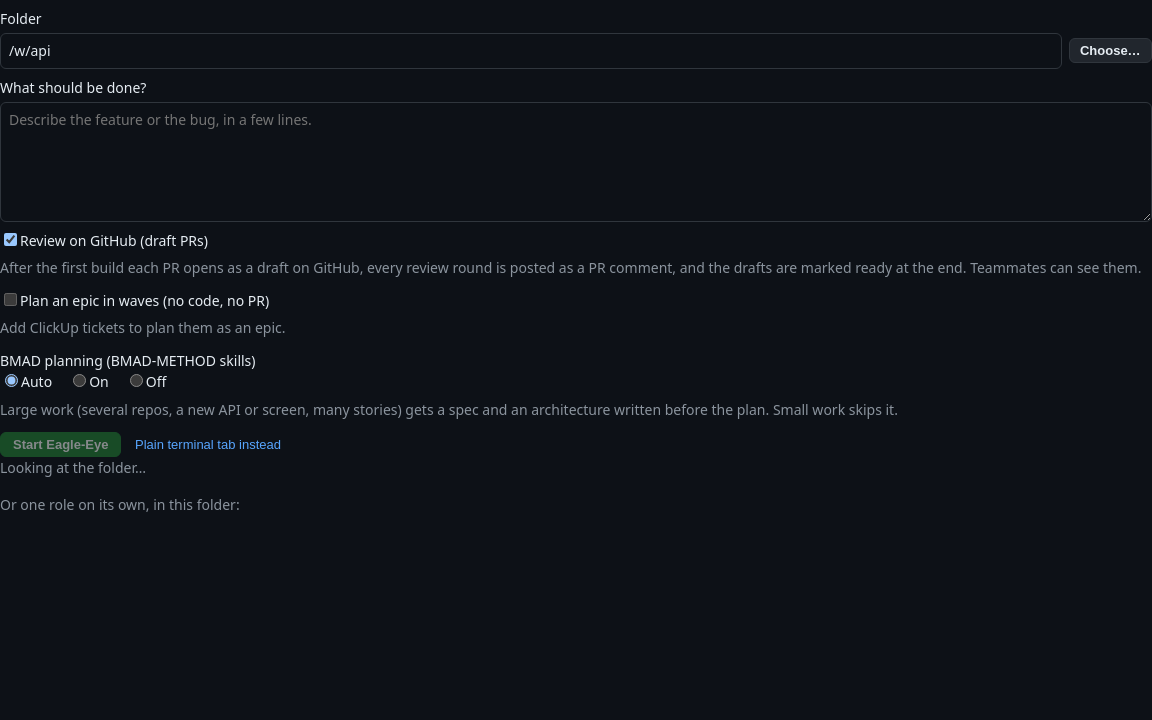
a manual start over the cap › asks first, listing the slot holders, and starts nothing until a choice
Type "Do it" into the text box with placeholder "Describe the feature or the bug, in a few lines." at (576, 162), box left=0, top=102, right=1151, bottom=222
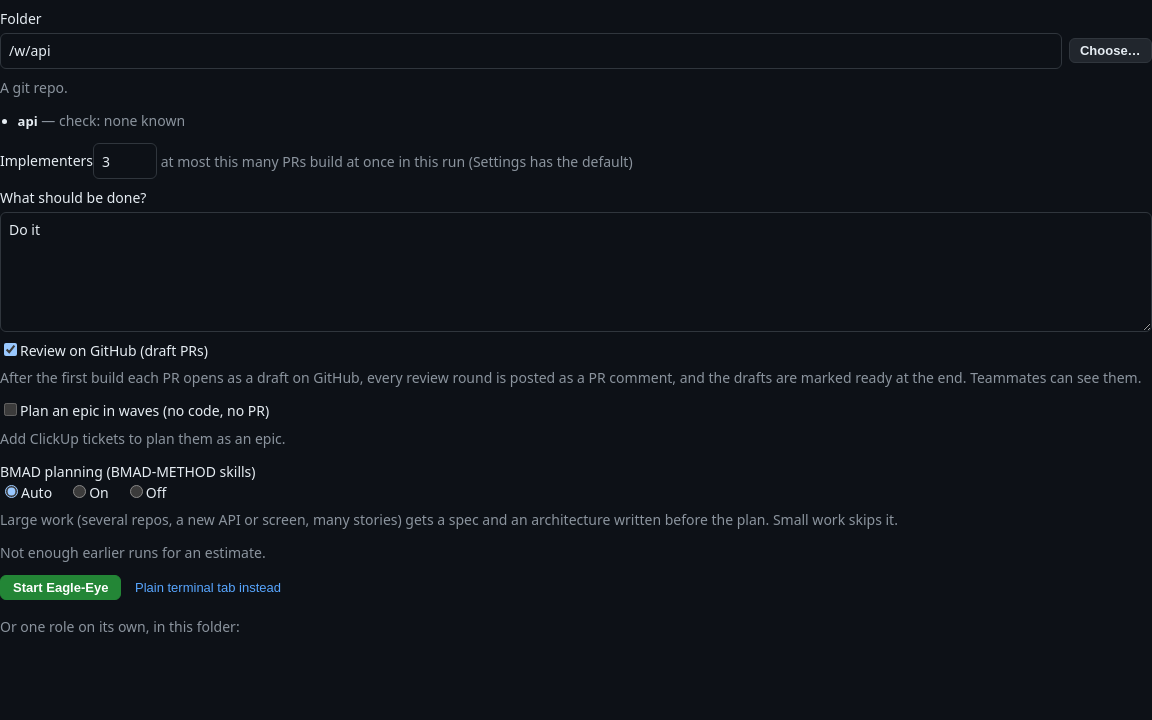
Now the button "Start Eagle-Eye" is enabled
Click the button "Start Eagle-Eye" at (61, 588), box left=0, top=575, right=121, bottom=600
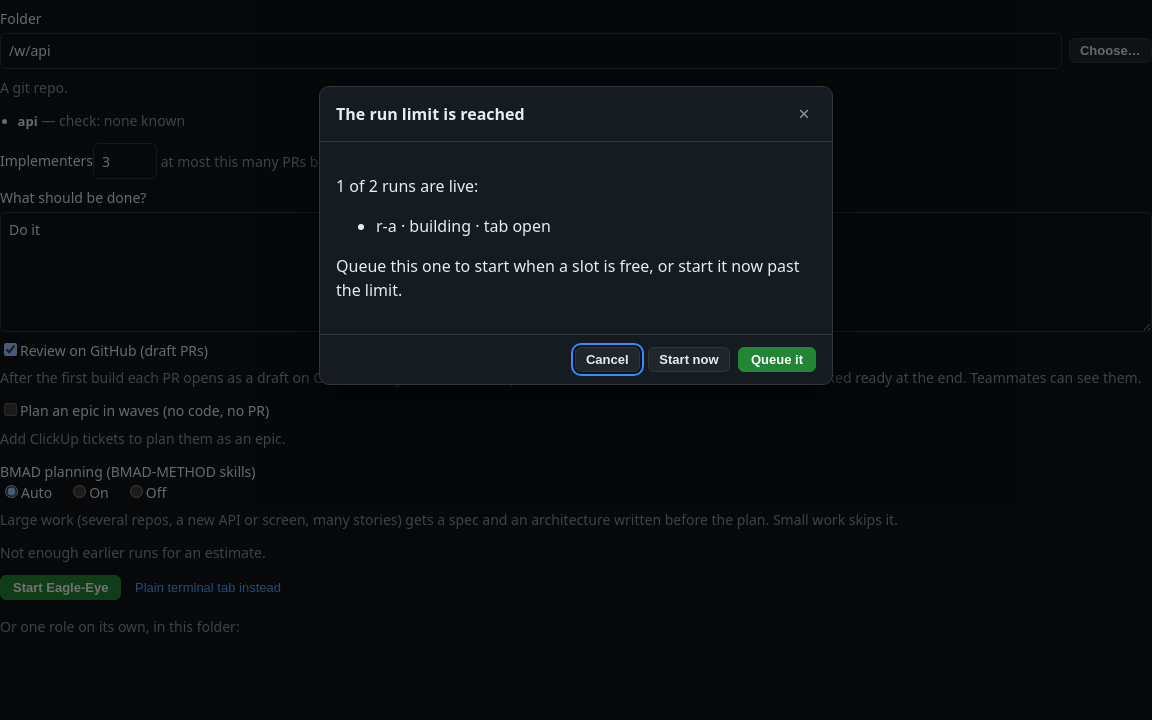
Now the heading "The run limit is reached" is shown, box left=336, top=103, right=525, bottom=125
Now the list with test id "cap-holders" shows "r-a", box left=376, top=215, right=397, bottom=237
